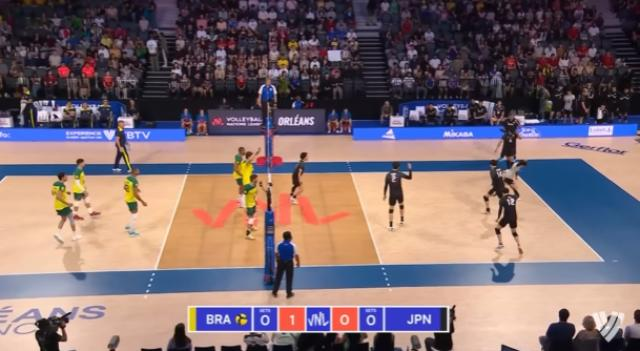Levantador: (224, 169, 266, 242), (280, 143, 320, 210)
Libero: (494, 148, 538, 202)
